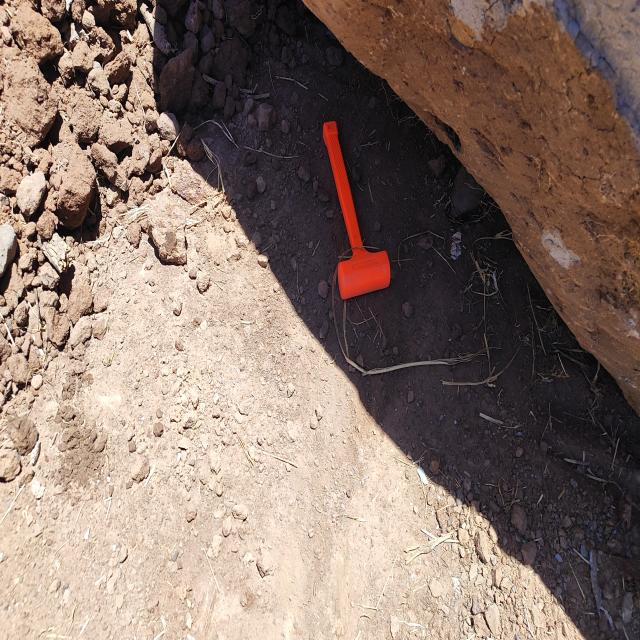Orange_hammer: (322, 118, 391, 300)
